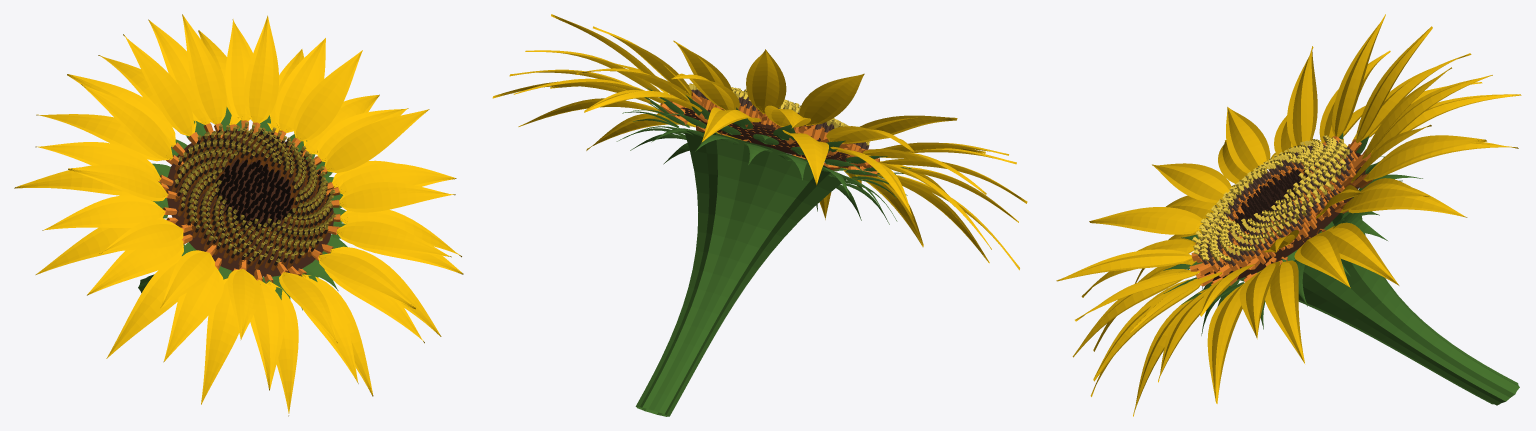
File: helianthus_annuus.obj
The picture shows the model from 3 angles, left to right: view 1: azimuth 30°, elevation 25°; view 2: azimuth 150°, elevation 25°; view 3: azimuth 270°, elevation 25°; orthographic projection. The views are drawn at different scales.
Bounding box in the file's own units: 156 × 112 × 138.
